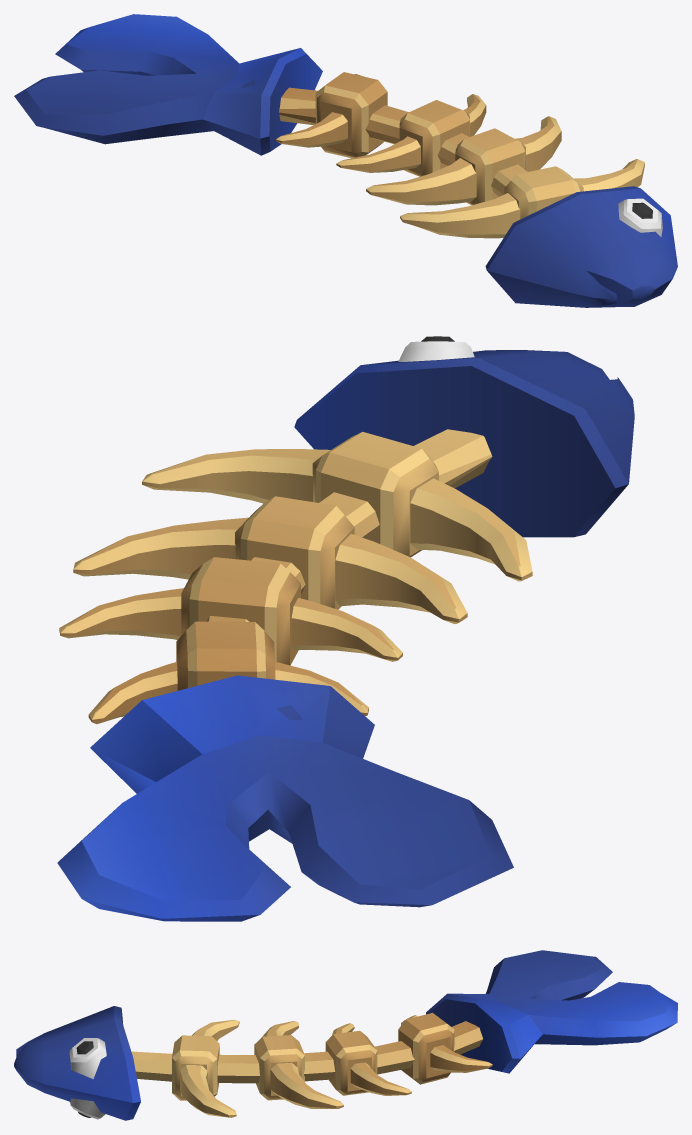
File: FishBones_1_E.glb
The picture shows the model from 3 angles, top to bottom: view 1: azimuth 30°, elevation 25°; view 2: azimuth 150°, elevation 25°; view 3: azimuth 270°, elevation 25°; orthographic projection. The views are drawn at different scales.
Parts seen in each view (by area): view 1: FishBones_1_E; view 2: FishBones_1_E; view 3: FishBones_1_E.
Boxes of the visible parts, <box> form: FishBones_1_E: <box>14,14,677,307</box>; FishBones_1_E: <box>57,336,634,921</box>; FishBones_1_E: <box>14,950,677,1120</box>.
Bounding box in the file's own units: 0.2718 × 0.0675 × 0.4623.
Materials: 1 (1 with a texture image).
